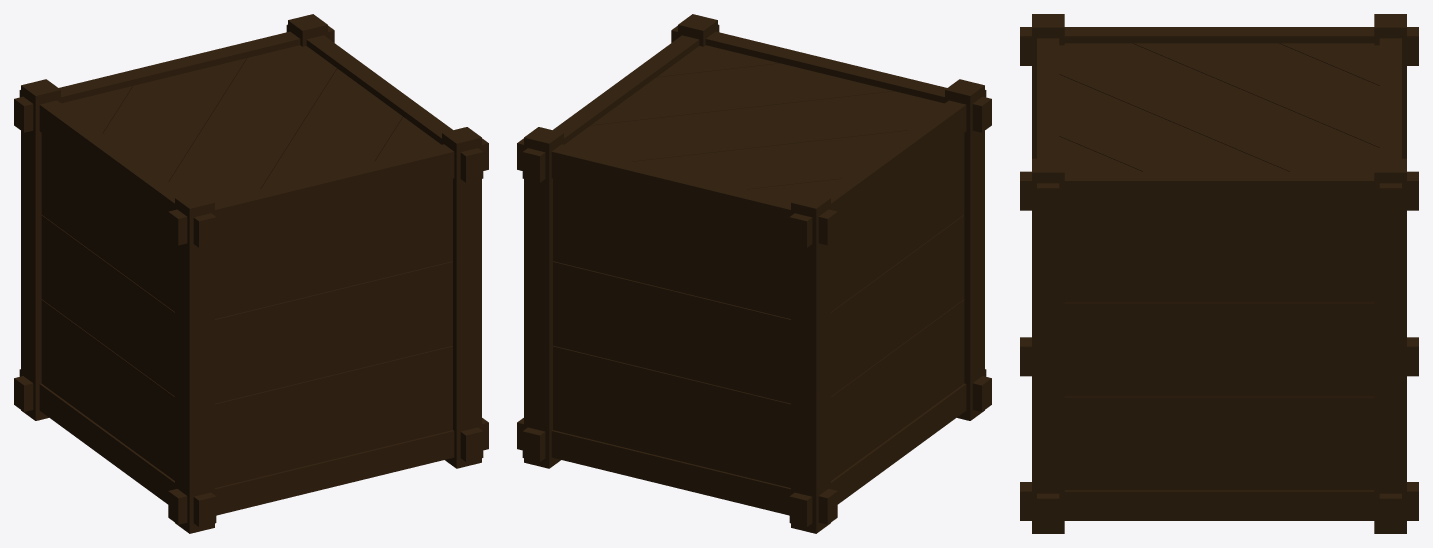
Rendered from SM_WoodBox_Frac.fbx.
The picture shows the model from 3 angles, left to right: view 1: azimuth 30°, elevation 25°; view 2: azimuth 150°, elevation 25°; view 3: azimuth 270°, elevation 25°; orthographic projection. The views are drawn at different scales.
Visible parts, largest first — view 1: piece_01, piece_071, piece_073, piece_09, piece_075, piece_045, piece_094, piece_066, piece_069, piece_027, piece_088, piece_04 (+40 smaller); view 2: piece_077, piece_076, piece_09, piece_073, piece_056, piece_032, piece_011, piece_051, piece_066, piece_075, piece_025, piece_052 (+40 smaller); view 3: piece_015, piece_016, piece_042, piece_041, piece_073, piece_040, piece_075, piece_078, piece_081, piece_025, piece_047, piece_039 (+27 smaller).
Part boxes in pixels (bbox=[...]): piece_01: bbox=[215, 213, 384, 318]; piece_071: bbox=[215, 359, 452, 447]; piece_073: bbox=[181, 45, 336, 162]; piece_09: bbox=[50, 173, 174, 311]; piece_075: bbox=[103, 58, 246, 163]; piece_045: bbox=[341, 261, 452, 359]; piece_094: bbox=[240, 388, 452, 481]; piece_066: bbox=[80, 247, 174, 396]; piece_069: bbox=[215, 339, 394, 403]; piece_027: bbox=[246, 138, 488, 213]; piece_088: bbox=[230, 418, 488, 511]; piece_04: bbox=[215, 283, 363, 346]; piece_077: bbox=[553, 178, 790, 294]; piece_076: bbox=[517, 138, 837, 245]; piece_09: bbox=[833, 133, 964, 291]; piece_073: bbox=[564, 108, 861, 161]; piece_056: bbox=[671, 299, 790, 403]; piece_032: bbox=[553, 353, 670, 452]; piece_011: bbox=[553, 261, 709, 353]; piece_051: bbox=[645, 374, 790, 456]; piece_066: bbox=[863, 236, 964, 372]; piece_075: bbox=[634, 135, 881, 189]; piece_025: bbox=[645, 63, 891, 107]; piece_052: bbox=[791, 293, 830, 433]; piece_015: bbox=[1135, 302, 1374, 396]; piece_016: bbox=[1073, 396, 1374, 463]; piece_042: bbox=[1064, 302, 1252, 396]; piece_041: bbox=[1064, 232, 1282, 302]; piece_073: bbox=[1173, 63, 1379, 171]; piece_040: bbox=[1114, 434, 1374, 490]; piece_075: bbox=[1178, 43, 1379, 147]; piece_078: bbox=[1195, 210, 1374, 278]; piece_081: bbox=[1183, 171, 1418, 210]; piece_025: bbox=[1059, 75, 1185, 171]; piece_047: bbox=[1032, 231, 1064, 453]; piece_039: bbox=[1155, 482, 1418, 520].
Size of the model in its own units: 116 by 116 by 116.
